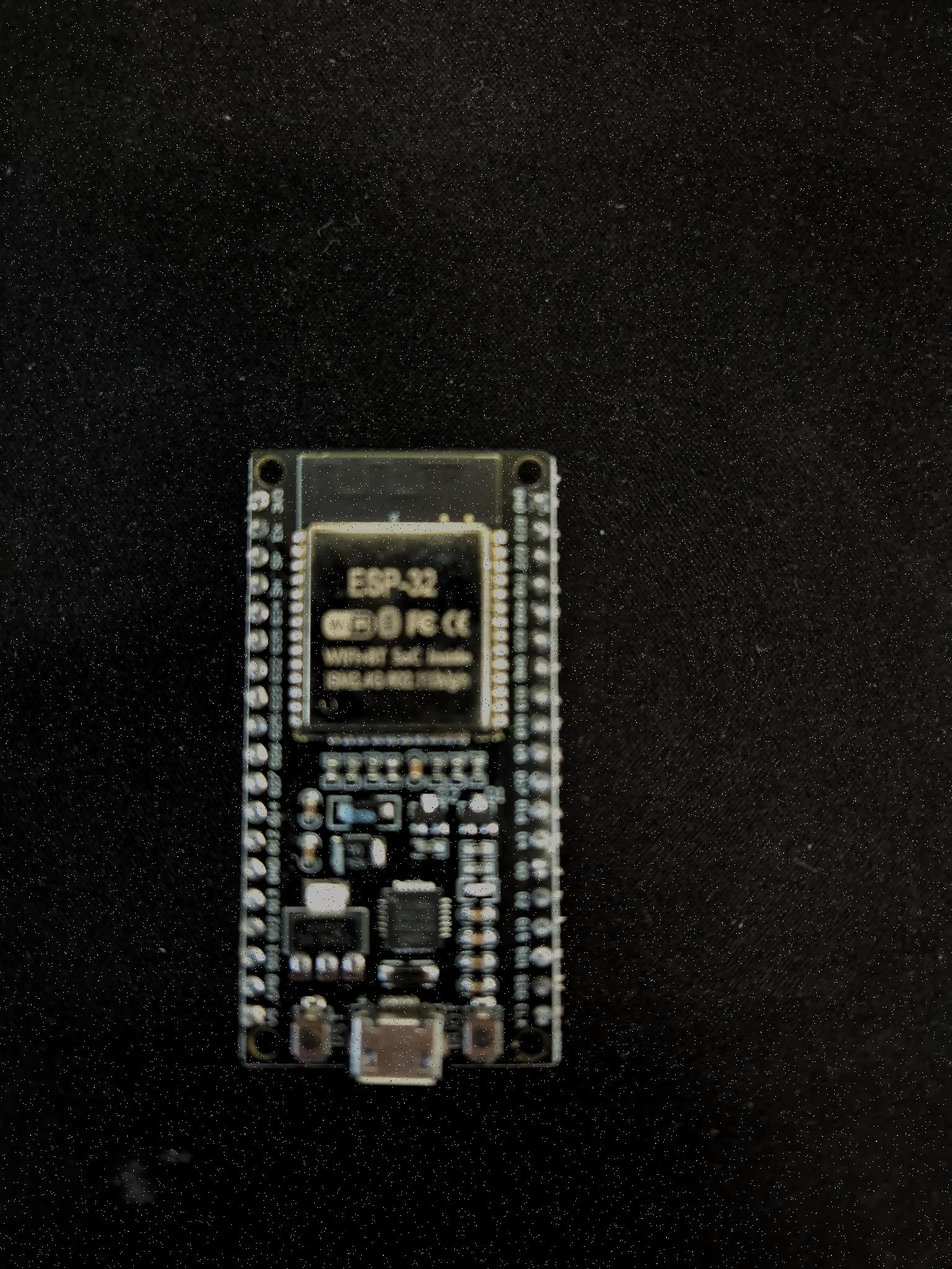esp32-dev: (239, 450, 563, 1085)
